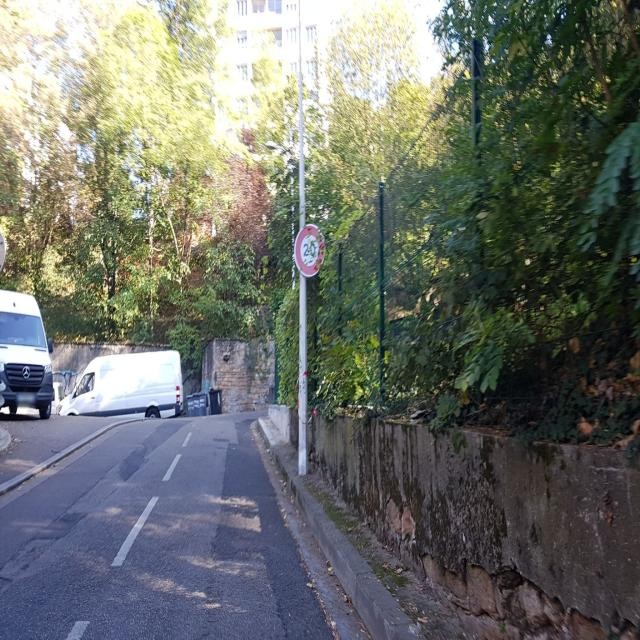car: (0, 285, 54, 420), (185, 391, 210, 416)
